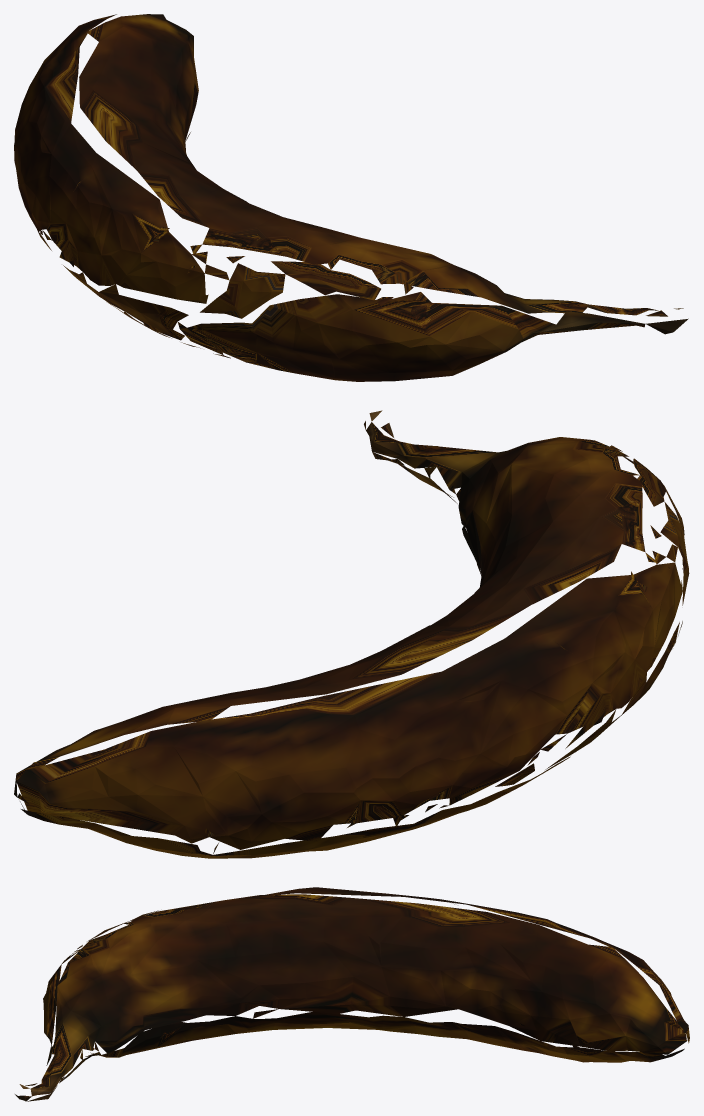
Rendered from food_produce_banana_b01.glb.
3 views of the same model, one above another, from view 1: azimuth 30°, elevation 25°; view 2: azimuth 150°, elevation 25°; view 3: azimuth 270°, elevation 25° (orthographic). The views are drawn at different scales.
Visible parts, largest first — view 1: geometry_0; view 2: geometry_0; view 3: geometry_0.
Part boxes in pixels (box(x1,y1,x2,y2)): geometry_0: box(14, 14, 688, 381); geometry_0: box(14, 410, 689, 858); geometry_0: box(15, 887, 689, 1101).
Size of the model in its own units: 0.2363 by 0.0785 by 0.42.
Materials: 1 (1 with a texture image).
